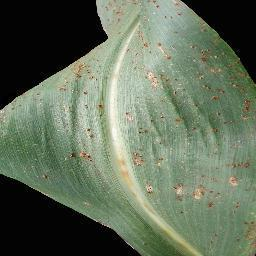Corn_Common_Rust: (140, 193, 256, 256), (114, 95, 256, 146), (82, 0, 231, 46), (124, 50, 256, 100), (109, 153, 256, 194), (39, 75, 103, 140), (34, 50, 109, 86), (0, 74, 43, 105), (53, 143, 102, 170), (35, 164, 60, 191), (20, 100, 24, 113)
